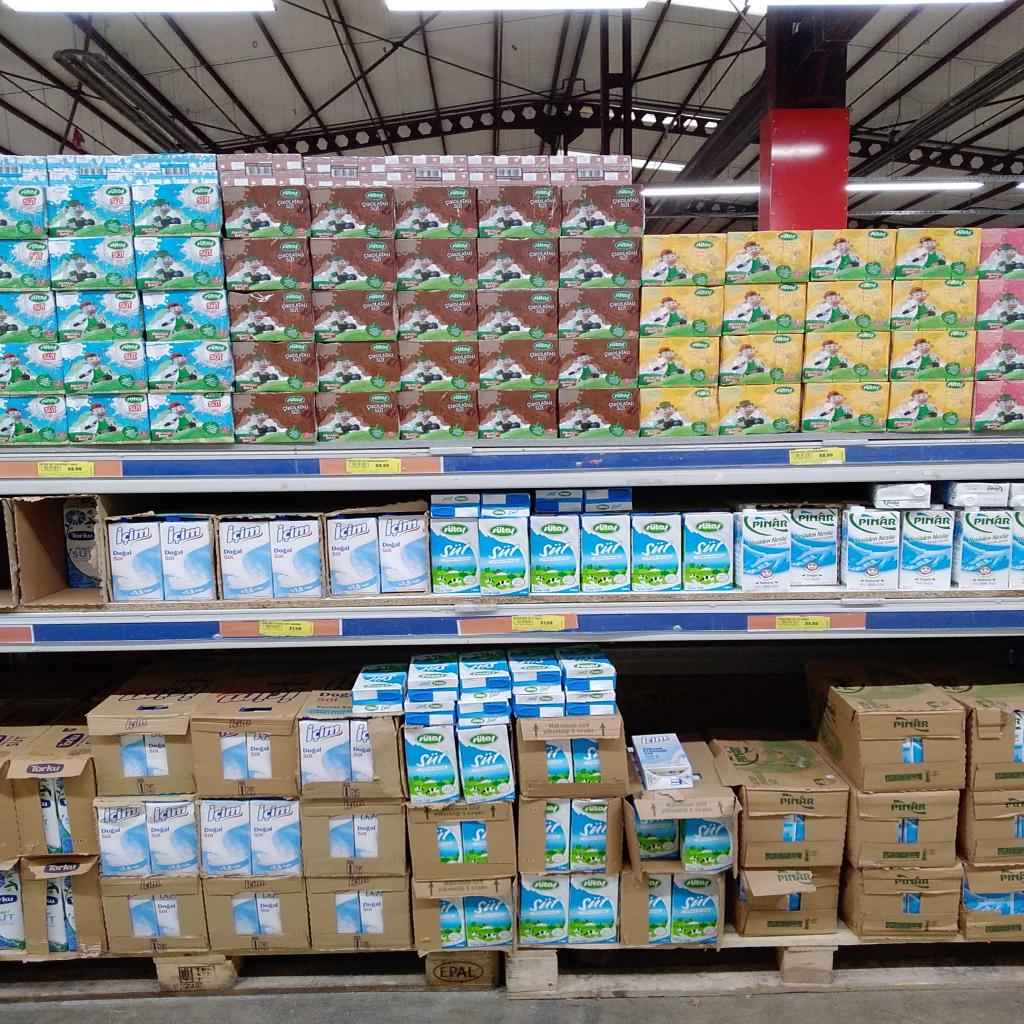price_tag: (37, 461, 94, 478), (789, 447, 845, 464), (511, 615, 566, 632), (776, 615, 831, 631), (346, 458, 401, 474), (259, 621, 313, 636)
product: (131, 235, 230, 293), (49, 232, 139, 292), (47, 175, 133, 237), (48, 291, 149, 343), (840, 506, 901, 591), (802, 325, 889, 382), (132, 181, 222, 236), (218, 238, 312, 290), (556, 237, 646, 291), (952, 508, 1011, 590), (733, 508, 791, 591), (561, 180, 646, 236), (160, 517, 216, 601), (222, 185, 310, 238), (145, 340, 233, 393), (63, 339, 147, 394), (899, 507, 954, 591), (725, 230, 811, 283), (890, 279, 977, 331), (478, 184, 560, 239), (310, 186, 395, 239), (271, 514, 324, 599), (306, 238, 396, 288), (805, 281, 891, 333), (887, 380, 973, 432), (894, 227, 980, 279), (143, 291, 238, 338), (225, 292, 318, 340), (641, 234, 725, 287), (395, 184, 477, 238), (479, 333, 558, 389), (718, 334, 803, 386), (67, 392, 150, 445), (234, 340, 317, 393), (149, 392, 233, 444), (315, 390, 399, 442), (810, 230, 895, 281), (476, 236, 556, 290), (394, 240, 480, 290), (802, 382, 888, 432), (717, 384, 801, 435), (478, 386, 557, 440), (327, 517, 381, 596), (397, 288, 477, 341), (398, 390, 478, 443), (233, 393, 316, 444), (313, 290, 396, 341), (558, 387, 639, 439), (109, 522, 163, 600), (219, 521, 273, 599), (890, 330, 974, 380), (478, 288, 558, 340), (638, 336, 718, 388), (639, 287, 722, 337), (378, 512, 429, 593), (400, 339, 479, 391), (558, 337, 638, 388), (723, 284, 806, 333), (631, 514, 683, 592), (318, 341, 399, 391), (683, 511, 733, 592), (529, 514, 580, 593), (558, 289, 638, 339), (639, 387, 718, 437), (580, 514, 630, 593), (478, 518, 528, 596), (430, 518, 480, 593), (791, 508, 837, 588), (1, 342, 70, 394), (0, 394, 66, 445), (0, 290, 59, 342), (0, 177, 46, 239), (972, 381, 1023, 432), (976, 330, 1023, 381), (978, 228, 1023, 280), (976, 281, 1023, 330), (0, 241, 50, 287)
